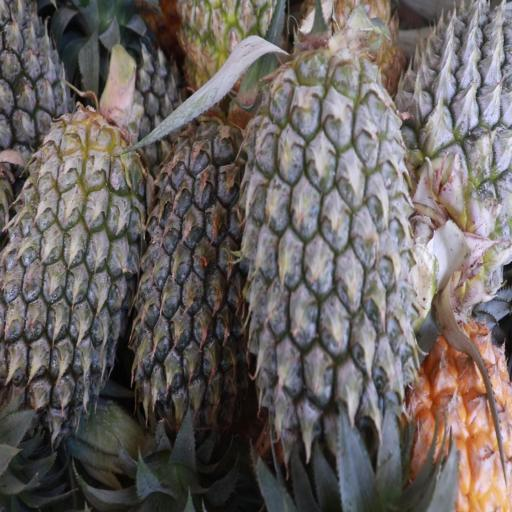------------------------------: (179, 0, 273, 102)
